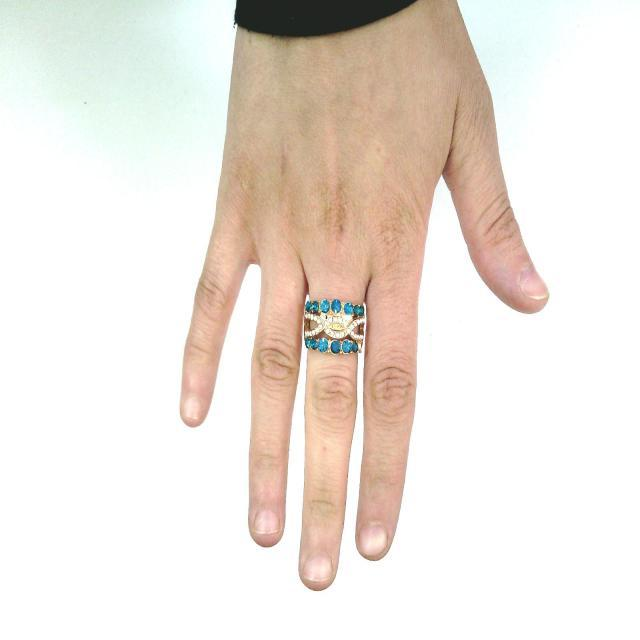Fingernail: (359, 522, 388, 555), (302, 551, 332, 581), (521, 270, 549, 299), (253, 511, 280, 534), (184, 397, 200, 419)
